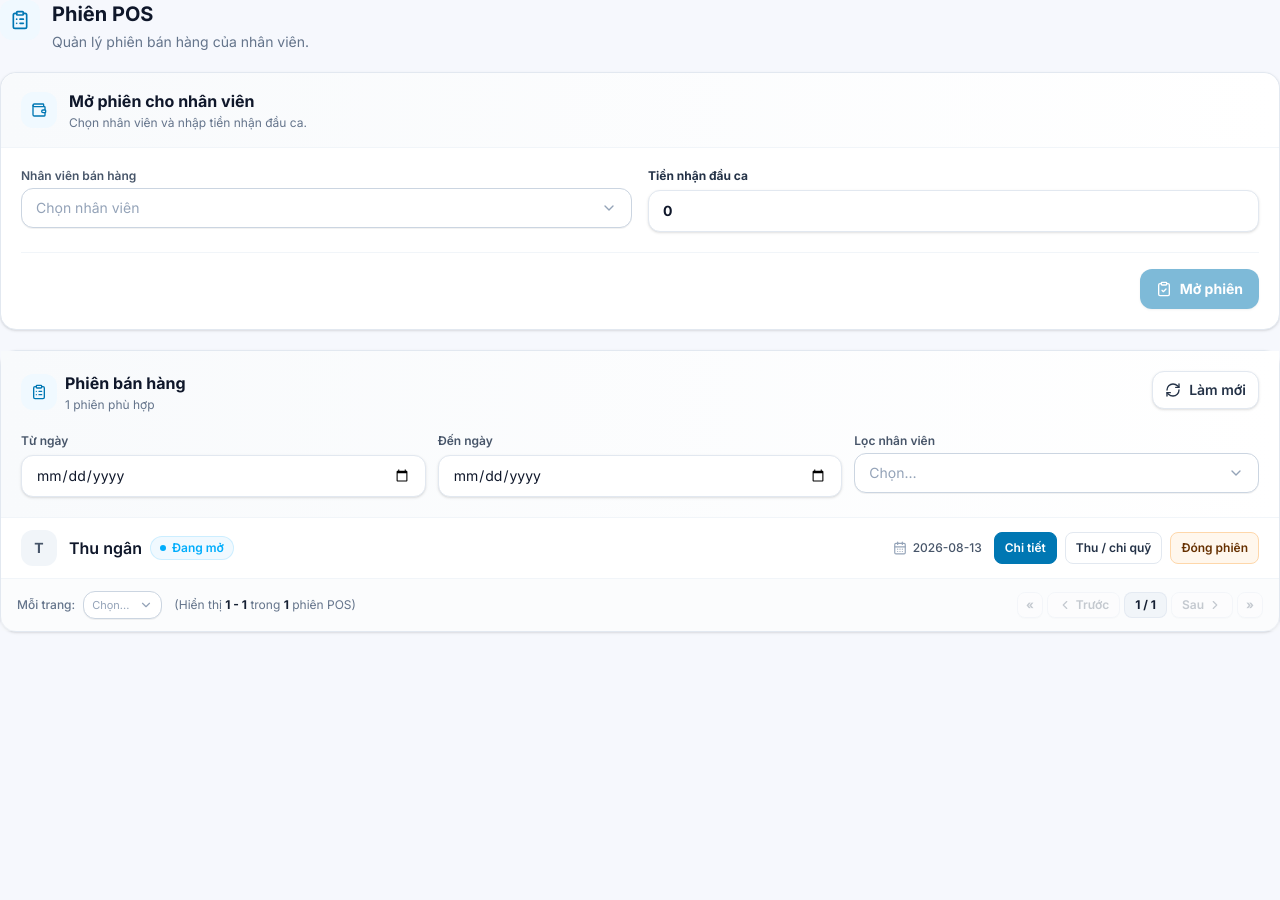
RetailShiftsPage POS sessions › preserves the count so a rejected close can be corrected
Click the button "Đóng phiên" at (1215, 548), box [1170,532,1259,564]
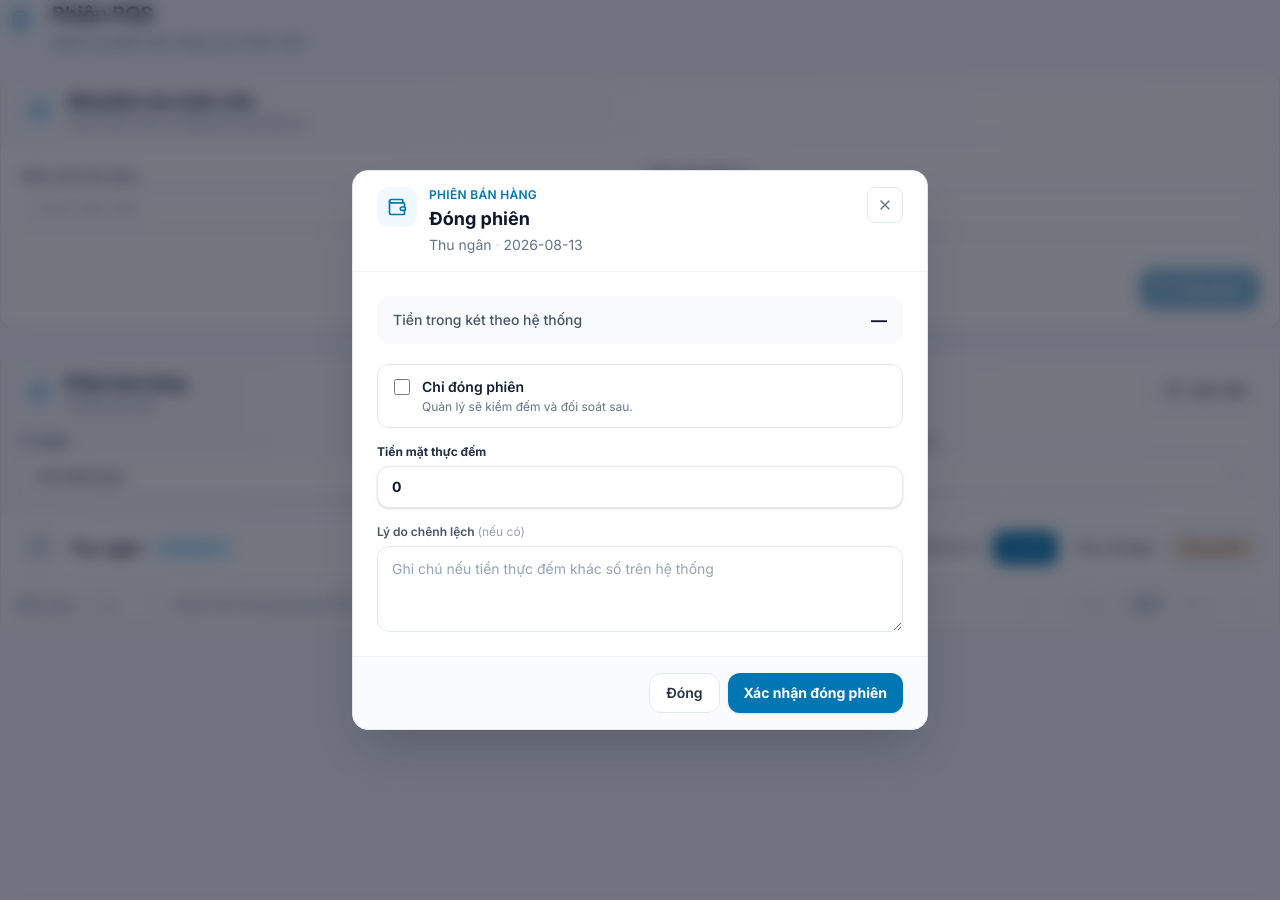
Type "1.300.000" into the field labelled "Tiền mặt thực đếm" at (640, 487), box [377,466,903,508]
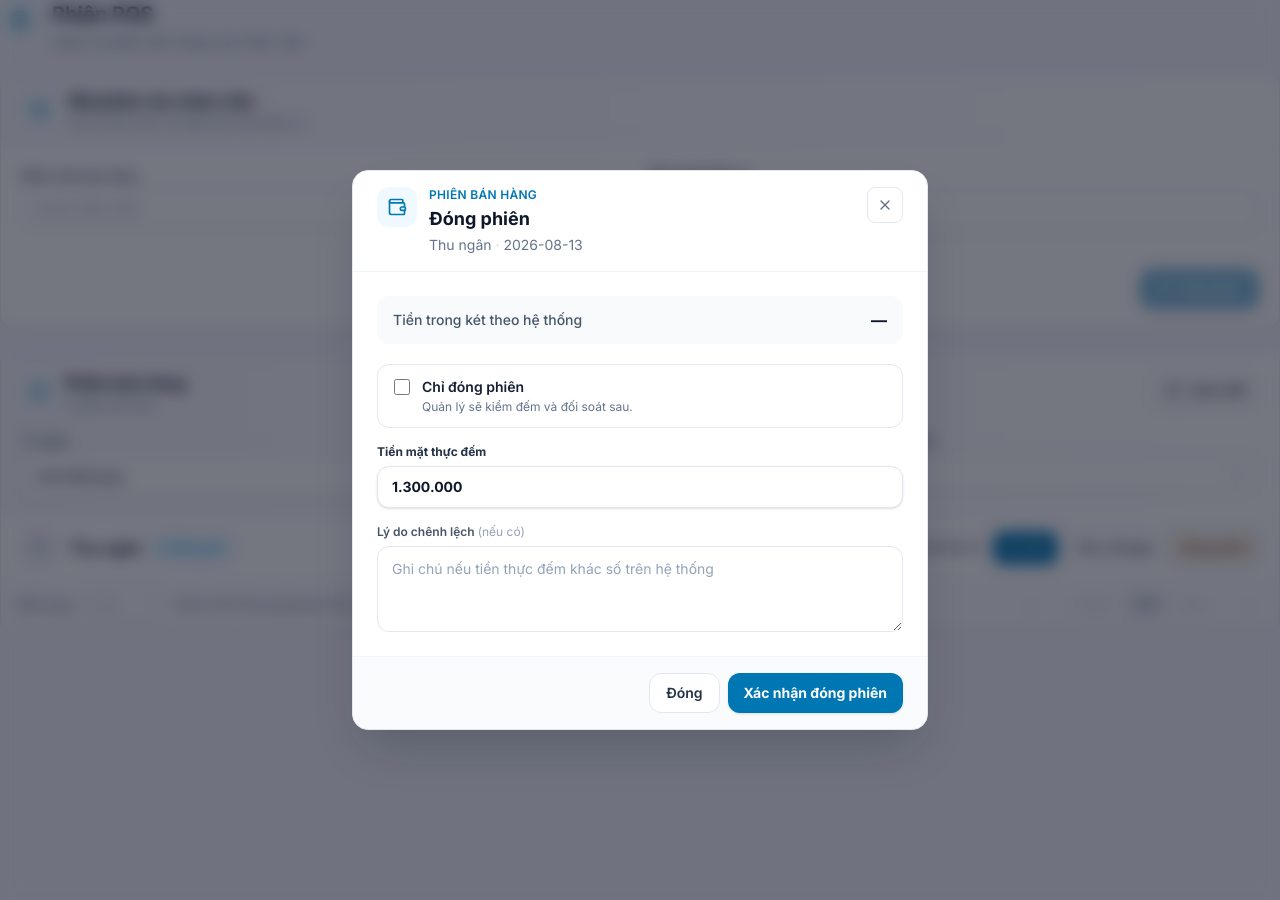
Click the button "Xác nhận đóng phiên" at (815, 693), box [728,673,903,713]
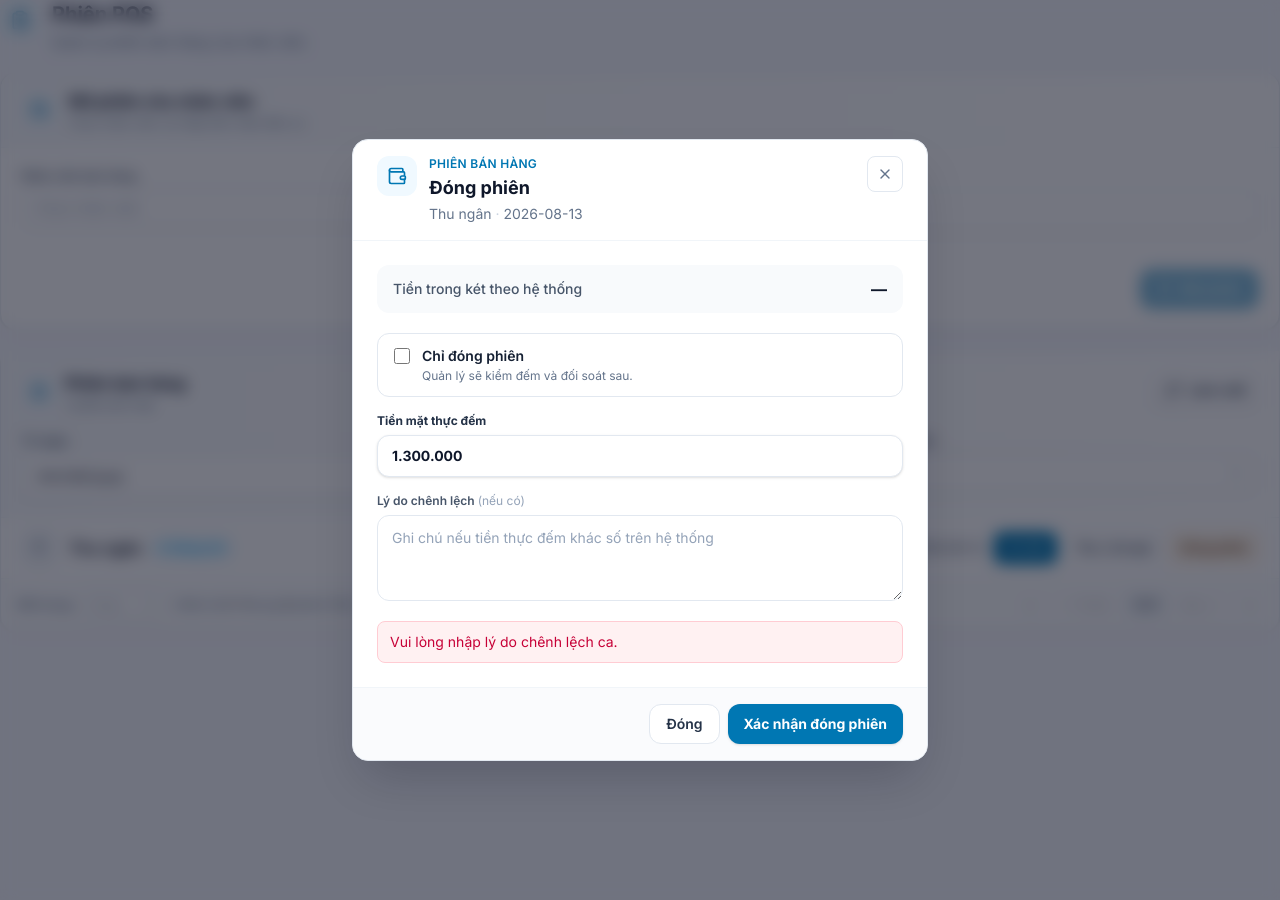
expect the dialog named "Đóng phiên POS" is shown: met, box [352,139,928,761]
expect the message reads "Vui lòng nhập lý do chênh lệch ca.": met, box [390,633,618,650]
